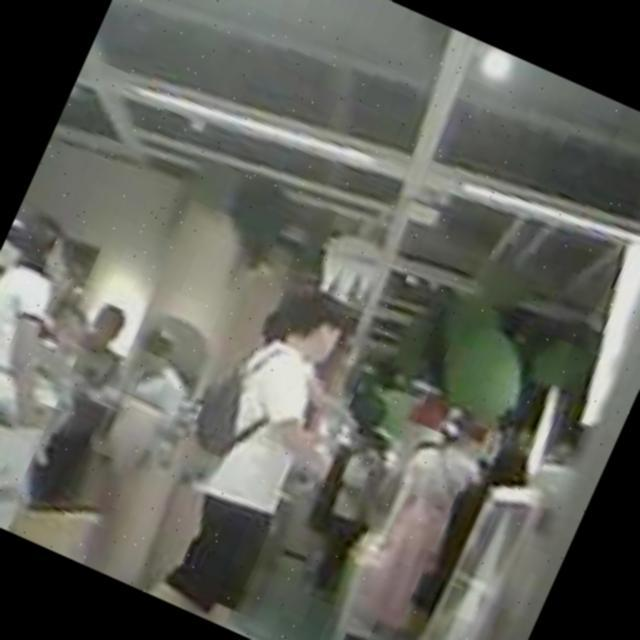person: (146, 280, 390, 639), (317, 397, 520, 640), (10, 295, 154, 515), (297, 428, 412, 596), (0, 212, 91, 397), (117, 323, 208, 425)
